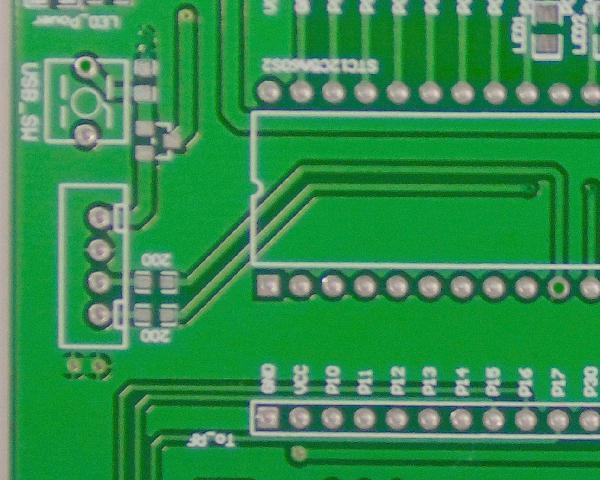missing hole: (542, 271, 573, 309), (70, 52, 99, 81)
